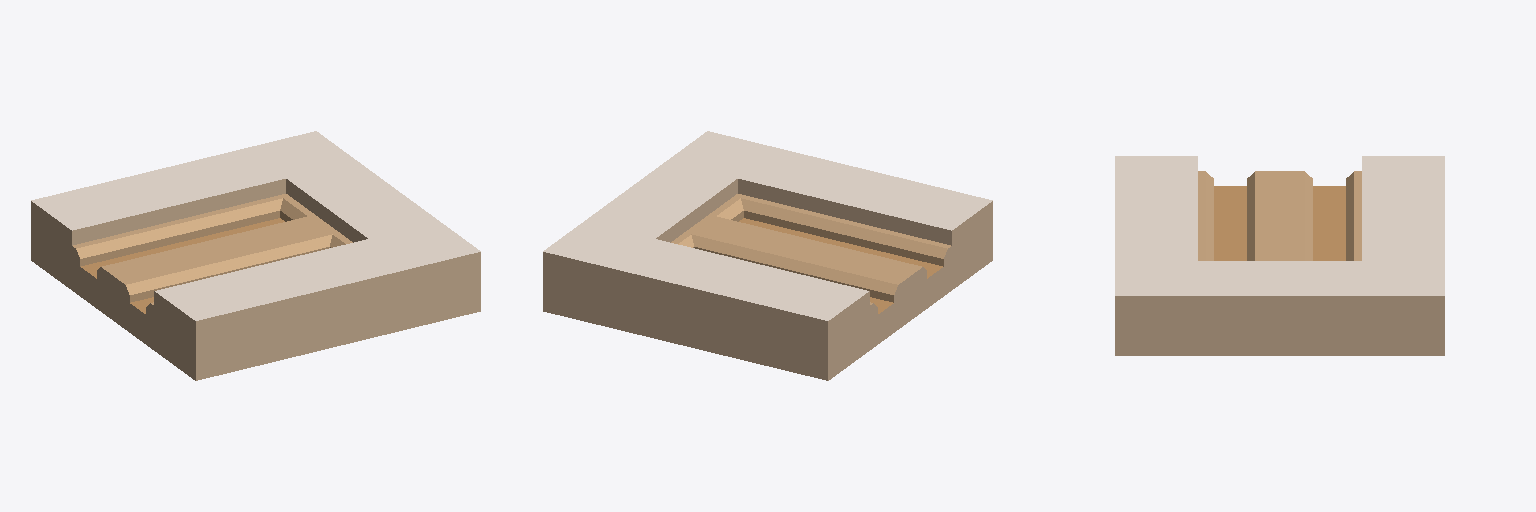
The model's file is Puzzle_Track_Standard_End.obj.
The picture shows the model from 3 angles: view 1: azimuth 30°, elevation 25°; view 2: azimuth 150°, elevation 25°; view 3: azimuth 270°, elevation 25°; orthographic projection.
Visible parts, largest first — view 1: object1; view 2: object1; view 3: object1.
Boxes of the visible parts, <box> form: object1: <box>31,131,480,380</box>; object1: <box>543,131,992,380</box>; object1: <box>1115,156,1444,355</box>.
Size of the model in its own units: 1 by 0.2 by 1.